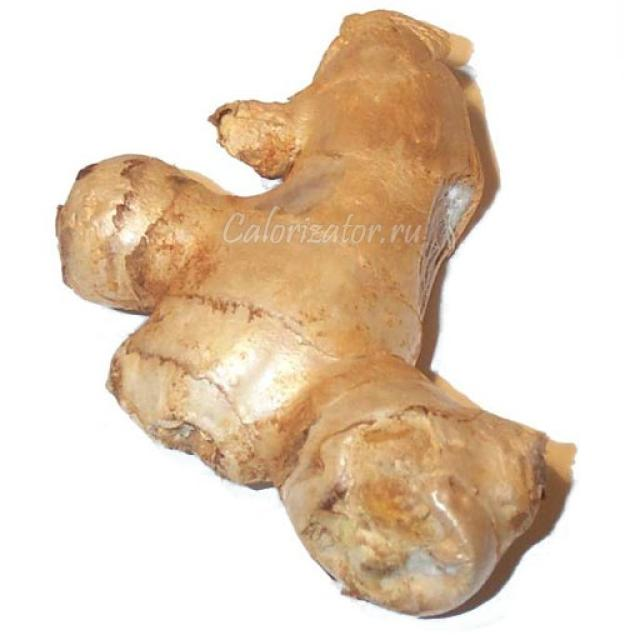ginger-root: (34, 2, 618, 630)
